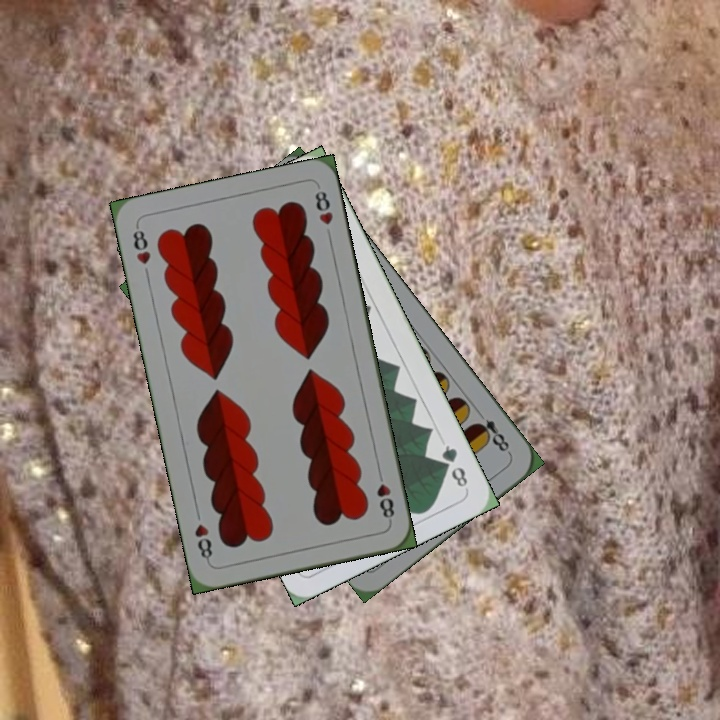E8: (470, 406, 514, 457)
G8: (437, 441, 471, 490)
H8: (372, 466, 397, 525), (129, 222, 153, 267)
